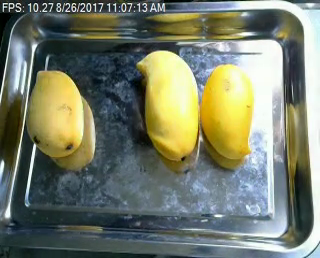Mango: (132, 50, 205, 171), (24, 66, 88, 158), (198, 57, 255, 160)
